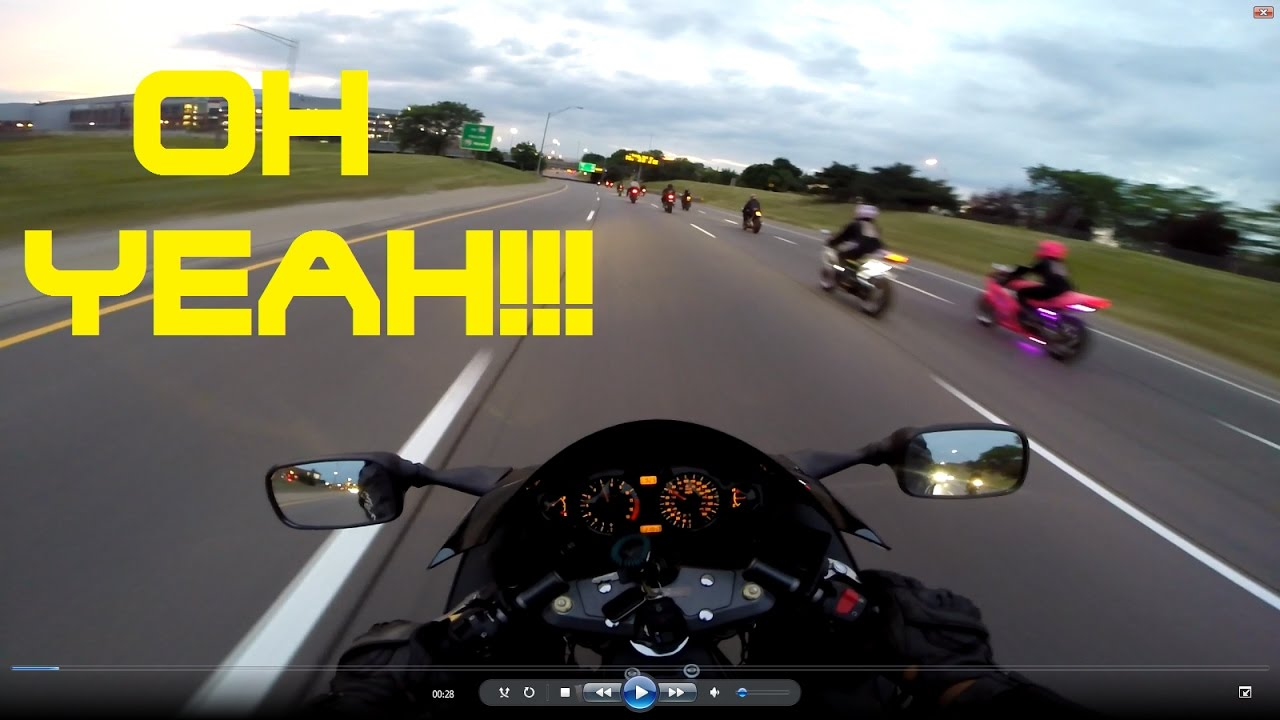Motorcycle: (205, 399, 1080, 667), (811, 238, 914, 324), (735, 196, 766, 237), (658, 180, 677, 212)
